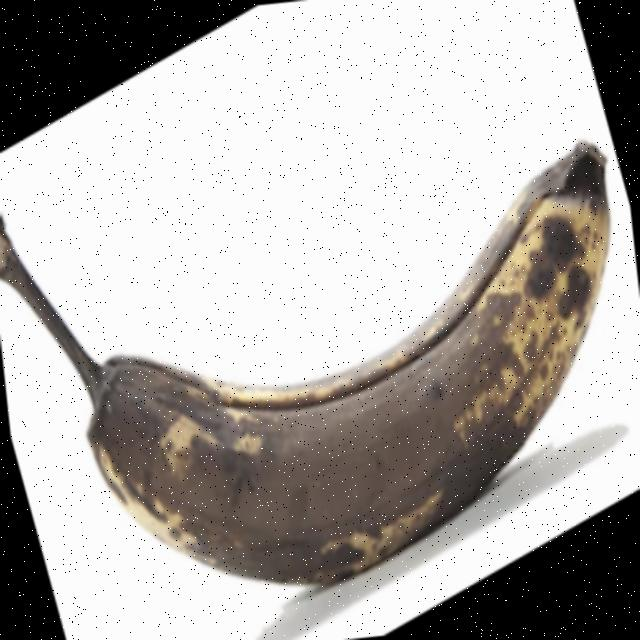Rotten: (0, 40, 640, 631)
